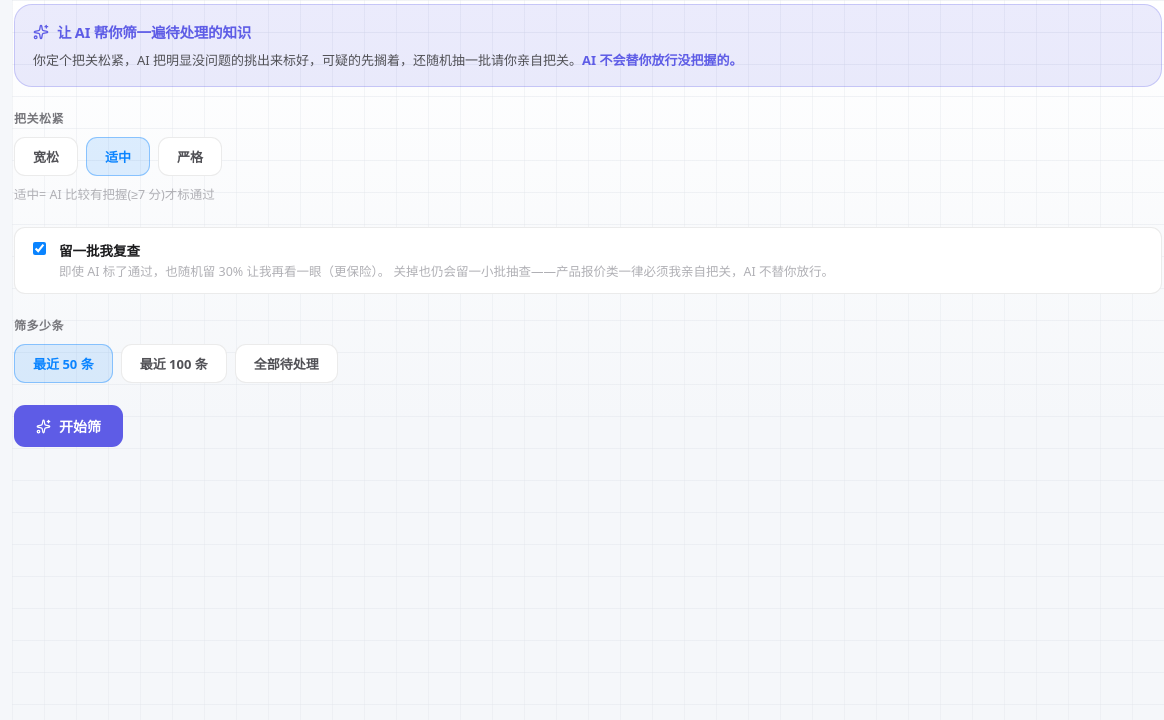
it: AutoVerifyPanel › 点开始筛 → 调 auto-verify,结果分三堆显示
Click the button "开始筛" at (68, 426), box [14,405,123,447]
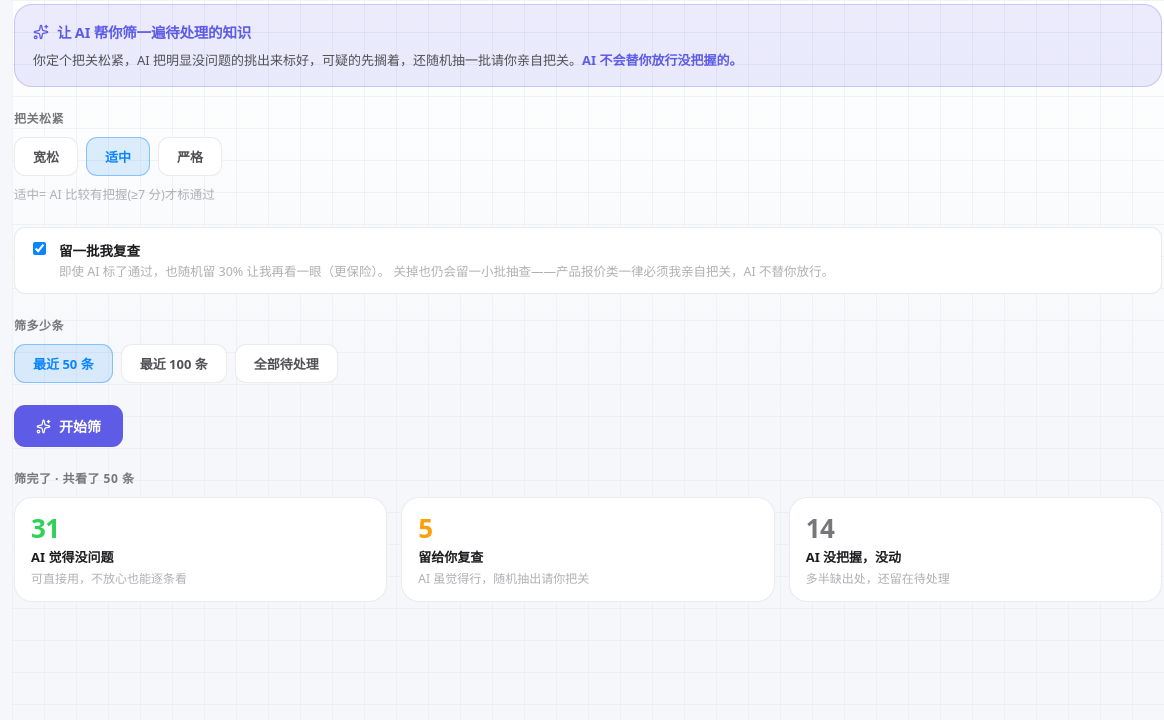
Result: the text "31" is shown at [31,510,60,546]
Result: the text "5" is shown at [418,510,433,546]
Result: the text "14" is shown at [806,510,834,546]
